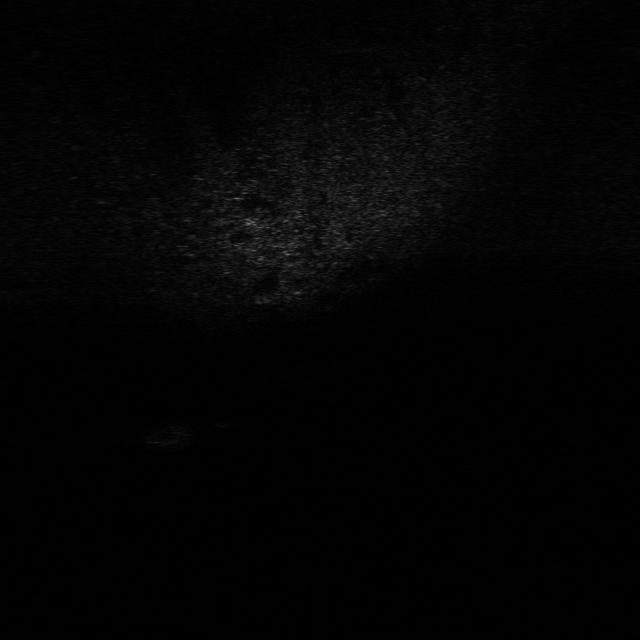ball: (210, 402, 246, 428)
circle cage: (138, 419, 200, 455)
